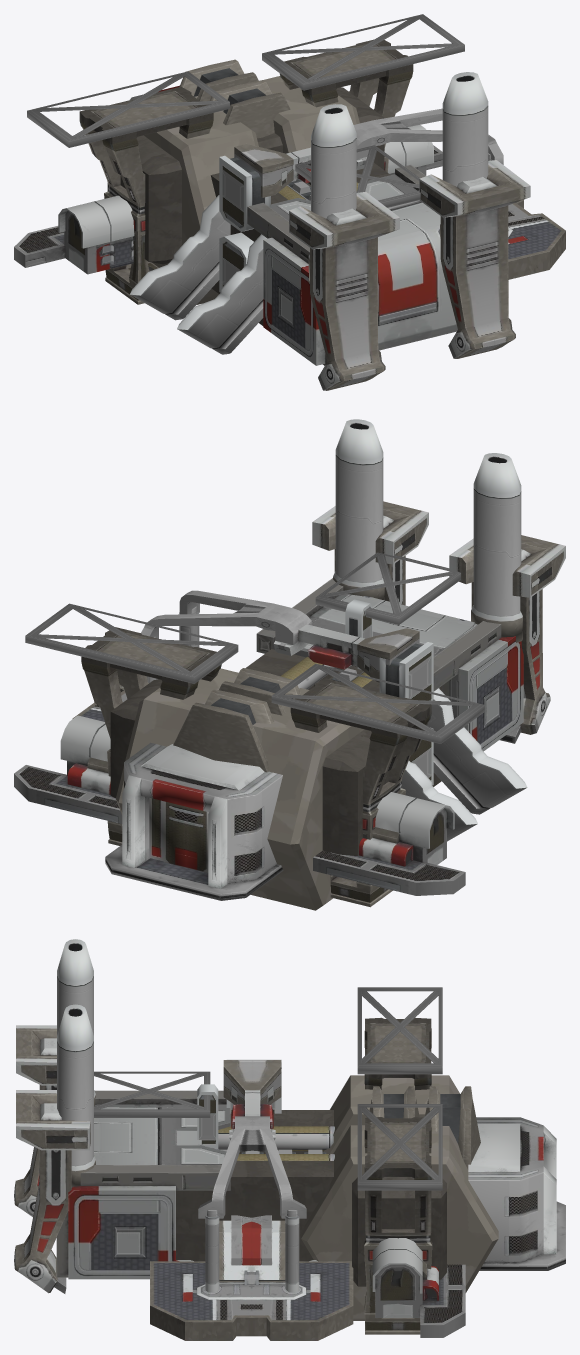
The model's file is Building - 08-Bwec-iHS.glb.
3 renders of one model, top to bottom at view 1: azimuth 30°, elevation 25°; view 2: azimuth 150°, elevation 25°; view 3: azimuth 270°, elevation 25°, orthographic. The views are drawn at different scales.
Parts seen in each view (by area): view 1: Main_form_04, Pylon_03 (1), Pylon_03, Pylon_01 (1), Addon_08 (1), Simlpe_form_02, Fence_08, Simlpe_form_14 (1), Pylon_08, Pylon_01, Fence_08 (1), Tube_02 (1) (+12 smaller); view 2: Door_02_frame, Main_form_04, Simlpe_form_14 (1), Addon_08 (1), Pylon_08, Tube_02, Pylon_01 (1), Tube_02 (1), Simlpe_form_02, Addon_08, Pylon_03, Pylon_01 (+15 smaller); view 3: Main_form_04, Pad_08, Door_02_frame, Simlpe_form_14, Pylon_03 (1), Simlpe_form_05, Pylon_01, Addon_08, Pylon_08, Tube_02 (1), Simlpe_form_02, Detail_07 (2) (+13 smaller).
Boxes of the visible parts, <box> form: Main_form_04: <box>247,164,457,365</box>; Pylon_03 (1): <box>419,160,530,358</box>; Pylon_03: <box>289,192,399,390</box>; Pylon_01 (1): <box>79,86,213,304</box>; Addon_08 (1): <box>14,195,134,274</box>; Simlpe_form_02: <box>107,87,384,264</box>; Fence_08: <box>130,195,230,320</box>; Simlpe_form_14 (1): <box>144,96,258,304</box>; Pylon_08: <box>234,108,503,197</box>; Pylon_01: <box>279,39,413,172</box>; Fence_08 (1): <box>177,234,266,354</box>; Tube_02 (1): <box>440,72,488,238</box>; Door_02_frame: <box>105,742,283,900</box>; Main_form_04: <box>256,578,523,751</box>; Simlpe_form_14 (1): <box>251,688,363,910</box>; Addon_08 (1): <box>313,792,465,895</box>; Pylon_08: <box>141,590,419,682</box>; Tube_02: <box>471,453,522,642</box>; Pylon_01 (1): <box>290,678,431,907</box>; Tube_02 (1): <box>333,419,384,600</box>; Simlpe_form_02: <box>110,679,388,855</box>; Addon_08: <box>14,715,122,823</box>; Pylon_03: <box>449,535,565,743</box>; Pylon_01: <box>81,627,221,845</box>; Main_form_04: <box>56,1090,230,1279</box>; Pad_08: <box>150,1215,353,1340</box>; Door_02_frame: <box>468,1117,565,1270</box>; Simlpe_form_14: <box>301,1125,498,1320</box>; Pylon_03 (1): <box>14,1090,90,1293</box>; Simlpe_form_05: <box>176,1110,333,1261</box>; Pylon_01: <box>364,1117,432,1334</box>; Addon_08: <box>372,1238,465,1337</box>; Pylon_08: <box>198,1060,306,1218</box>; Tube_02 (1): <box>57,1004,95,1187</box>; Simlpe_form_02: <box>352,1177,446,1286</box>; Detail_07 (2): <box>357,987,442,1074</box>.
Size of the model in its own units: 6.63 by 4.39 by 7.33.
10 materials, 10 textured.
